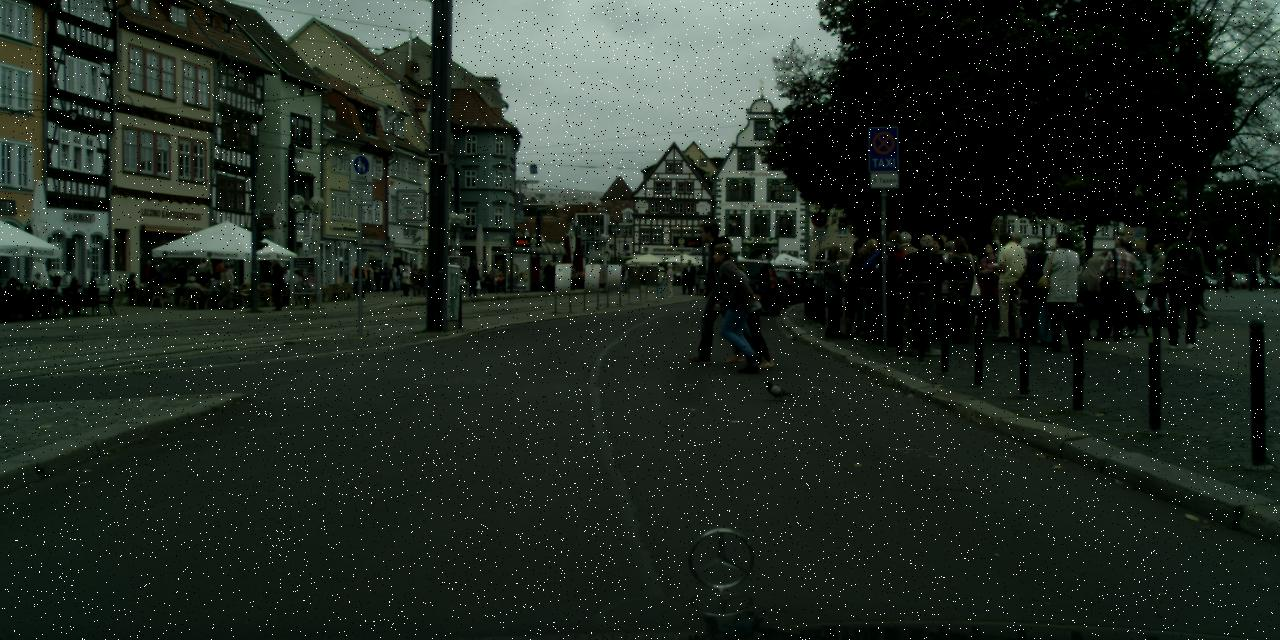ped: (686, 220, 743, 361), (716, 236, 768, 366), (1157, 223, 1208, 349), (710, 242, 760, 368), (1040, 230, 1089, 350), (900, 234, 948, 351), (866, 230, 912, 345), (882, 231, 926, 340), (985, 232, 1029, 340), (939, 236, 982, 342), (1093, 235, 1136, 340), (864, 235, 906, 338), (1018, 238, 1056, 346), (850, 238, 890, 336), (838, 240, 876, 337), (815, 246, 853, 336), (972, 240, 1008, 330), (1085, 251, 1119, 336), (1168, 244, 1202, 328), (1138, 242, 1172, 325), (366, 260, 427, 298), (175, 258, 235, 291), (932, 281, 952, 337), (266, 257, 286, 309), (142, 259, 166, 287), (931, 235, 954, 261), (352, 260, 367, 298), (280, 266, 294, 302), (662, 262, 676, 296), (681, 259, 695, 293), (544, 262, 558, 293), (776, 264, 789, 296), (652, 268, 664, 296), (1245, 268, 1259, 292), (694, 264, 704, 294), (566, 263, 577, 290), (1222, 267, 1232, 291), (622, 266, 627, 294), (1017, 340, 1020, 340)
